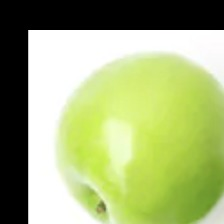apple: (47, 29, 214, 210)
